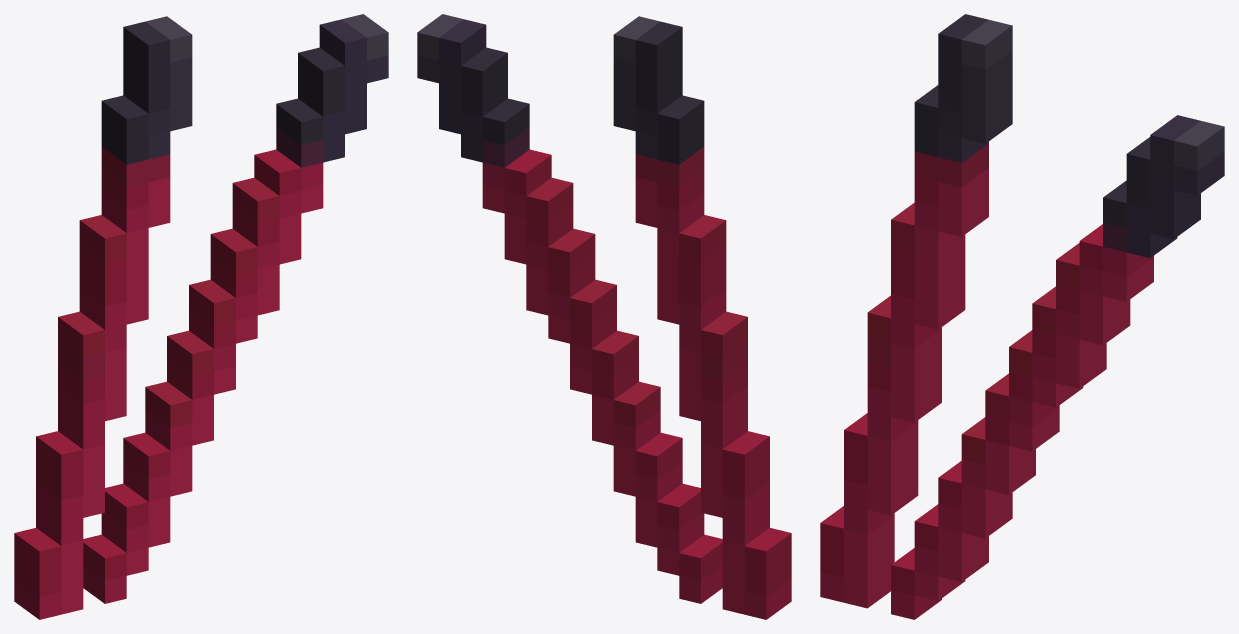
The model's file is chopsticks.glb.
The picture shows the model from 3 angles, left to right: view 1: azimuth 30°, elevation 25°; view 2: azimuth 150°, elevation 25°; view 3: azimuth 330°, elevation 25°; orthographic projection. The views are drawn at different scales.
Parts seen in each view (by area): view 1: prop; view 2: prop; view 3: prop.
Part boxes in pixels (bbox=[...]): prop: bbox=[14, 14, 388, 619]; prop: bbox=[417, 14, 791, 619]; prop: bbox=[820, 14, 1224, 619].
Bounding box in the file's own units: 10.67 × 16 × 1.33.
